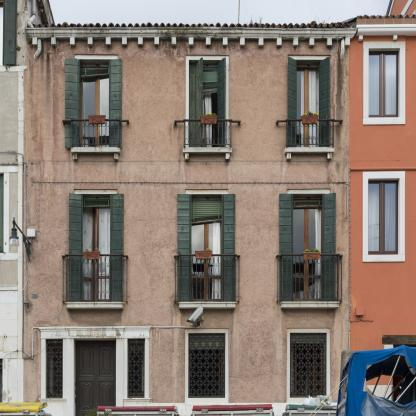Building Outline: (24, 21, 358, 416)
Cornice: (38, 327, 151, 339)
Door: (74, 338, 116, 416)
Facade: (23, 23, 358, 416)
Floor: (24, 190, 350, 327)
Floor Slab: (24, 182, 350, 190), (24, 319, 350, 327)
Ground Floor: (24, 326, 350, 416)
Molding: (24, 28, 358, 47)
Sill: (284, 147, 335, 160), (71, 147, 121, 160), (183, 147, 232, 160), (65, 302, 124, 310), (280, 301, 340, 308), (178, 302, 237, 309), (38, 398, 67, 402), (123, 398, 151, 402)
Top Floor: (24, 37, 350, 189)
Window: (188, 194, 226, 301), (290, 194, 327, 301), (77, 195, 114, 302), (290, 59, 328, 147), (77, 59, 115, 147), (189, 59, 226, 147), (290, 333, 327, 398), (189, 333, 225, 398), (128, 338, 145, 398), (46, 339, 63, 398)
